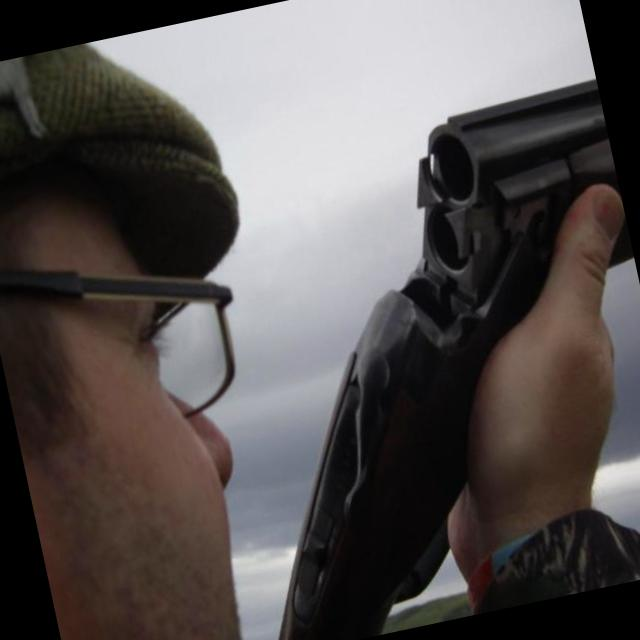Gun: (278, 78, 622, 640)
